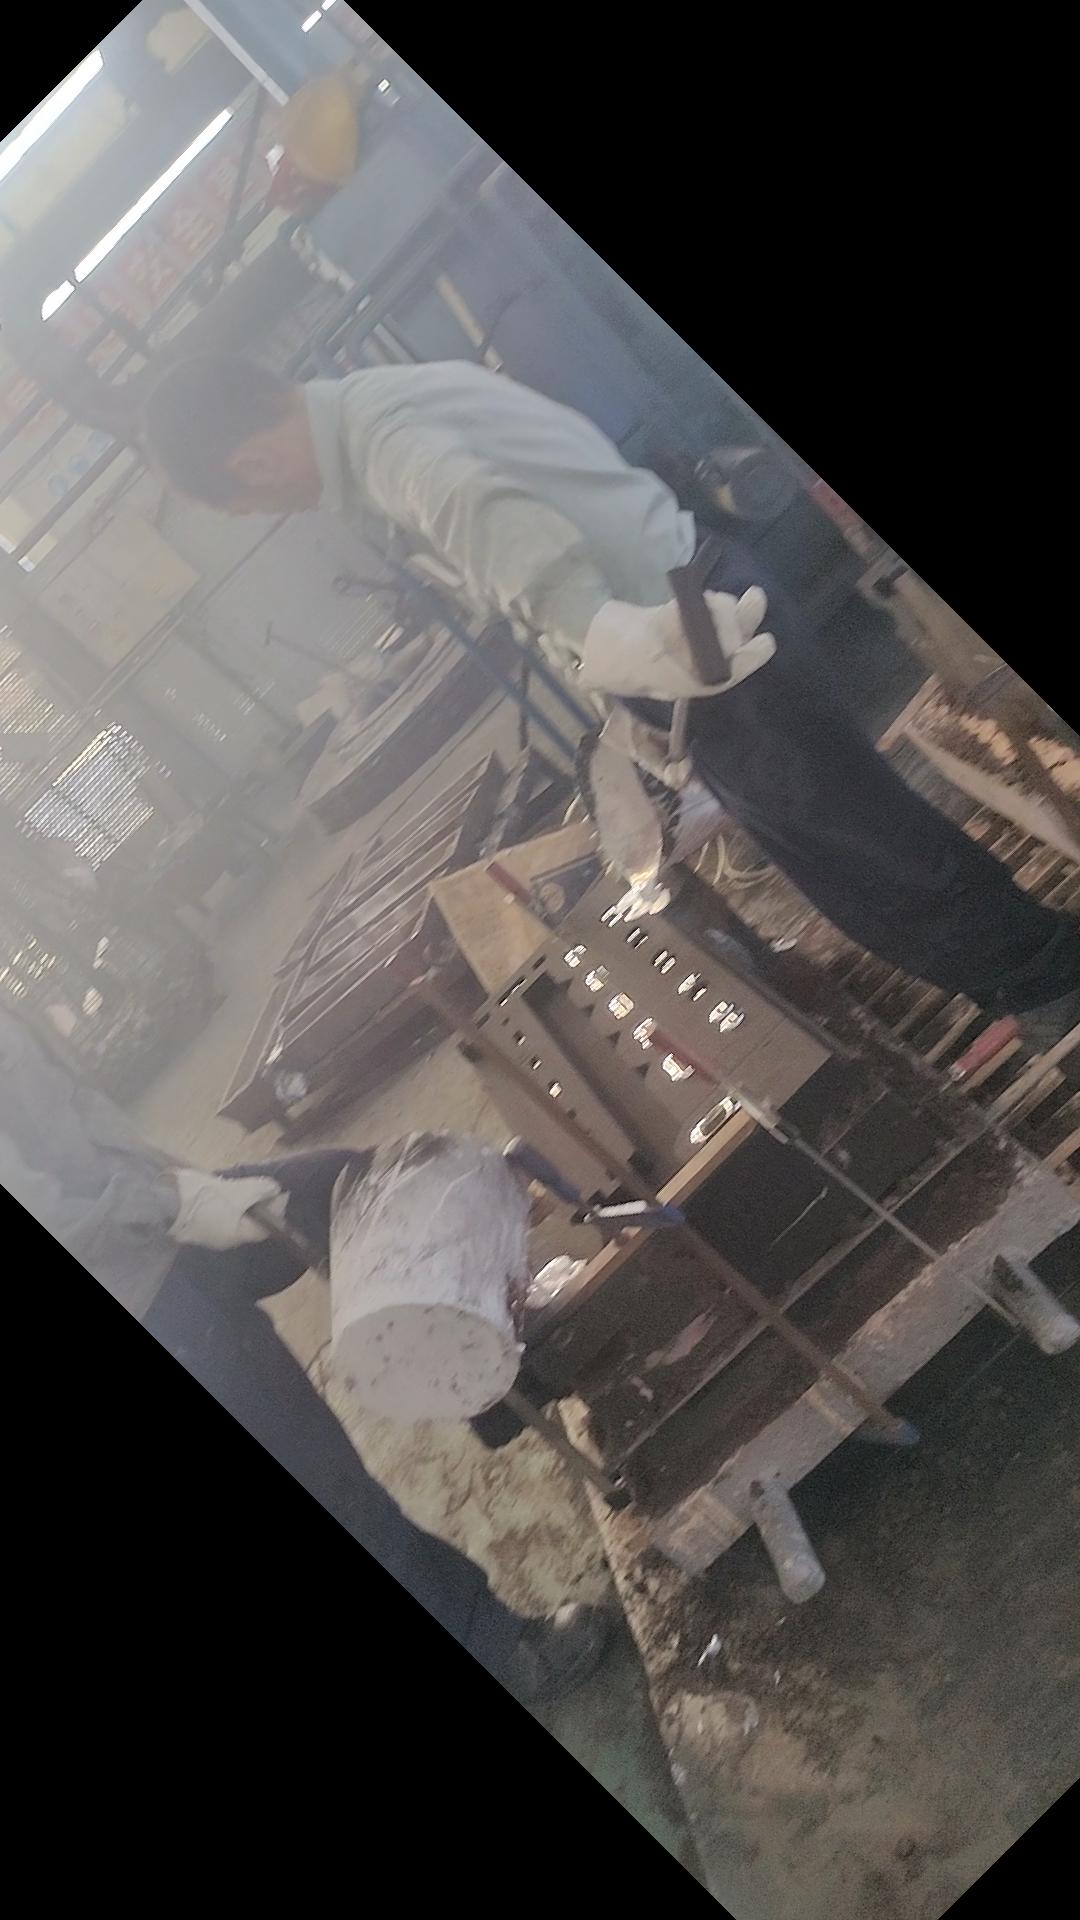pouring hole: (524, 1253, 570, 1302), (629, 880, 662, 913)
